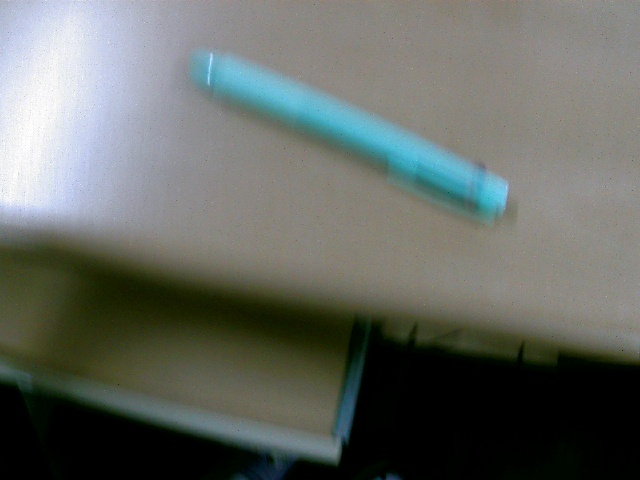pen: (169, 42, 518, 216)
